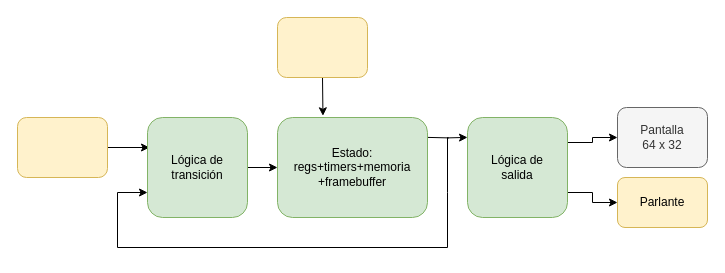
This 725x273 diagram has some shape labels left out. The centre of each missing label's shape, as x and y in pixels:
"16 teclas" belongs at (62,147).
"Clock" belongs at (322,47).
